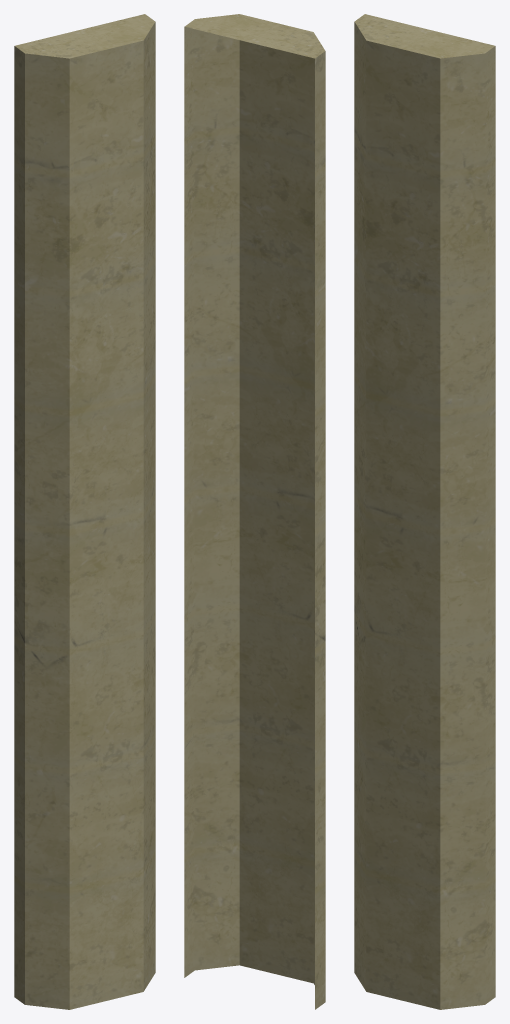
Rendered from Marble_BevelColumn_Center.gltf.
3 renders of one model, left to right at view 1: azimuth 30°, elevation 25°; view 2: azimuth 150°, elevation 25°; view 3: azimuth 330°, elevation 25°, orthographic.
Parts seen in each view (by area): view 1: Marble_BevelColumn_Center; view 2: Marble_BevelColumn_Center; view 3: Marble_BevelColumn_Center.
Part boxes in pixels (x1=…): Marble_BevelColumn_Center: x1=14, y1=14, x2=155, y2=1009; Marble_BevelColumn_Center: x1=184, y1=14, x2=325, y2=1009; Marble_BevelColumn_Center: x1=354, y1=14, x2=495, y2=1009.
Size of the model in its own units: 0.5749 by 4 by 0.2044.
1 material, 1 textured.
